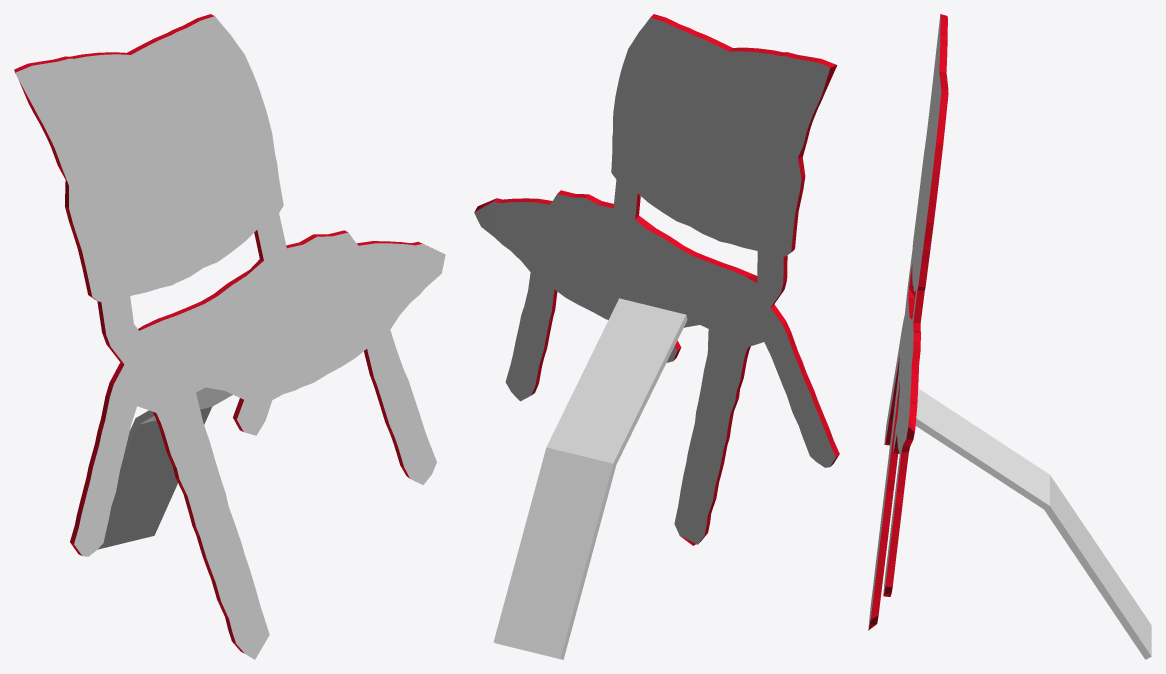
Rendered from black chair carboard.fbx.
3 views of the same model, side by side, from view 1: azimuth 30°, elevation 25°; view 2: azimuth 150°, elevation 25°; view 3: azimuth 270°, elevation 25° (orthographic). The views are drawn at different scales.
Parts seen in each view (by area): view 1: Plane, Plane.004; view 2: Plane, Plane.004; view 3: Plane, Plane.004.
Part boxes in pixels (x1,y1,x2,y2): Plane: (14, 14, 445, 659); Plane.004: (98, 387, 232, 549); Plane: (474, 14, 839, 545); Plane.004: (493, 298, 687, 659); Plane: (868, 14, 948, 630); Plane.004: (915, 388, 1151, 659).
Size of the model in its own units: 1765 by 2528 by 1196.
